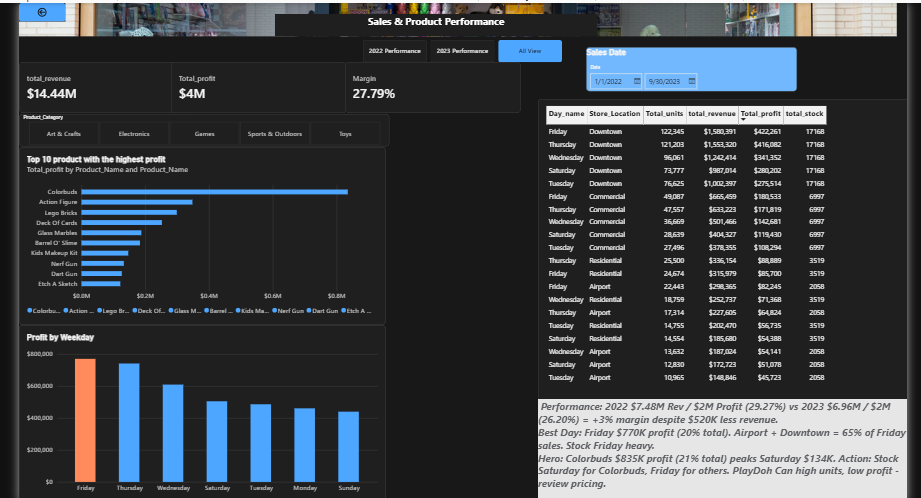

The dashboard page shown, as its layout file describes it:
{"tool":"powerbi","page":{"name":"Sales & Product Performance","canvas":[1920,1080],"ordinal":2},"visuals":[{"type":"image","box":[0,0,1896,72],"z":0},{"type":"clusteredColumnChart","title":"Profit by Weekday","fields":{"Category":["maven_toys toy_sales.Day_name"],"Y":["maven_toys toy_sales.Total_profit"]},"box":[0,696,792,384],"z":1000},{"type":"cardVisual","fields":{"Data":["maven_toys toy_sales.total_revenue"]},"box":[0,128,380,110],"z":2000},{"type":"cardVisual","fields":{"Data":["maven_toys toy_sales.Total_profit"]},"box":[328,128,380,110],"z":3000},{"type":"slicer","fields":{"Values":["maven_toys toy_products.Product_Category"]},"box":[0,240,800,70],"z":4000},{"type":"tableEx","fields":{"Values":["maven_toys toy_sales.Day_name","maven_toys toy_stores.Store_Location","maven_toys toy_sales.Total_units","maven_toys toy_sales.total_revenue","maven_toys toy_sales.Total_profit","maven_toys toy_inventory.total_stock"]},"box":[1120,208,800,656],"z":5000},{"type":"barChart","title":"Top 10 product with the highest profit","fields":{"Category":["maven_toys toy_products.Product_Name"],"Series":["maven_toys toy_products.Product_Name"],"Y":["maven_toys toy_sales.Total_profit"]},"box":[0,312,792,384],"z":6000},{"type":"textbox","box":[552,24,696,48],"z":8000},{"type":"slicer","title":"Sales Date","fields":{"Values":["maven_toys toy_sales.Date"]},"box":[1224,96,456,96],"z":9000},{"type":"bookmarkNavigator","box":[744,80,432,48],"z":15000},{"type":"cardVisual","fields":{"Data":["maven_toys toy_sales.Margin"]},"box":[704,128,380,110],"z":15001},{"type":"textbox","box":[1120,856,800,224],"z":15002},{"type":"actionButton","box":[0,0,100,40],"z":15003}]}

Visuals, with their boxes on the page's 1920x1080 design canvas (x1, y1, x2, y2). These are canvas units, not pixel positions in the 921x498 screenshot, which may show the page scaled, cropped or inside an application window:
image: select_region(0, 0, 1896, 72)
"Profit by Weekday" clusteredColumnChart: select_region(0, 696, 792, 1080)
cardVisual - maven_toys toy_sales.total_revenue: select_region(0, 128, 380, 238)
cardVisual - maven_toys toy_sales.Total_profit: select_region(328, 128, 708, 238)
slicer - maven_toys toy_products.Product_Category: select_region(0, 240, 800, 310)
tableEx - maven_toys toy_sales.Day_name x maven_toys toy_stores.Store_Location: select_region(1120, 208, 1920, 864)
"Top 10 product with the highest profit" barChart: select_region(0, 312, 792, 696)
textbox: select_region(552, 24, 1248, 72)
"Sales Date" slicer: select_region(1224, 96, 1680, 192)
bookmarkNavigator: select_region(744, 80, 1176, 128)
cardVisual - maven_toys toy_sales.Margin: select_region(704, 128, 1084, 238)
textbox: select_region(1120, 856, 1920, 1080)
actionButton: select_region(0, 0, 100, 40)
